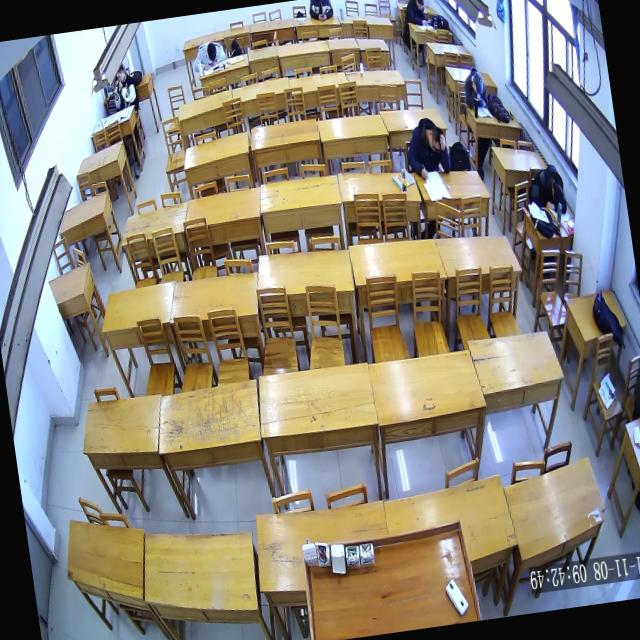bow: (528, 163, 568, 218), (190, 41, 228, 72)
down: (427, 126, 446, 152), (472, 72, 484, 95), (206, 42, 218, 62), (115, 65, 126, 83), (415, 0, 426, 12)
sit: (402, 115, 452, 181), (110, 62, 140, 111), (462, 66, 489, 111), (402, 0, 432, 29)
